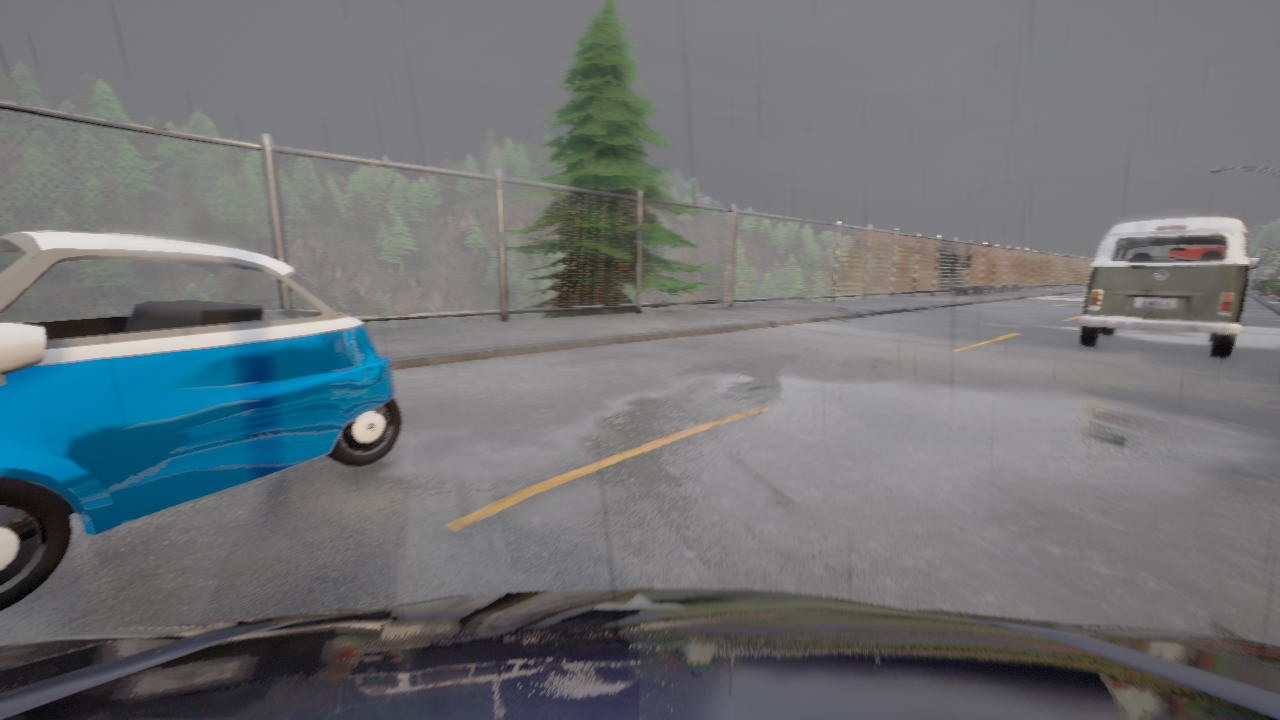cyclist: (0, 588, 1279, 719), (0, 231, 402, 611), (1077, 216, 1259, 358)
